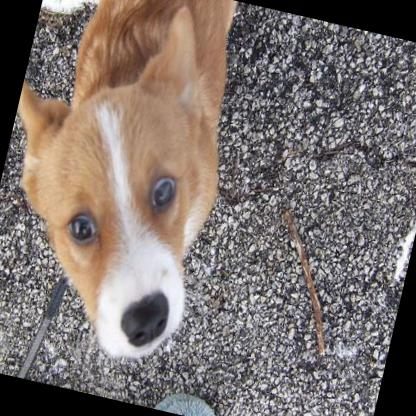Pembroke: (0, 0, 262, 372)
